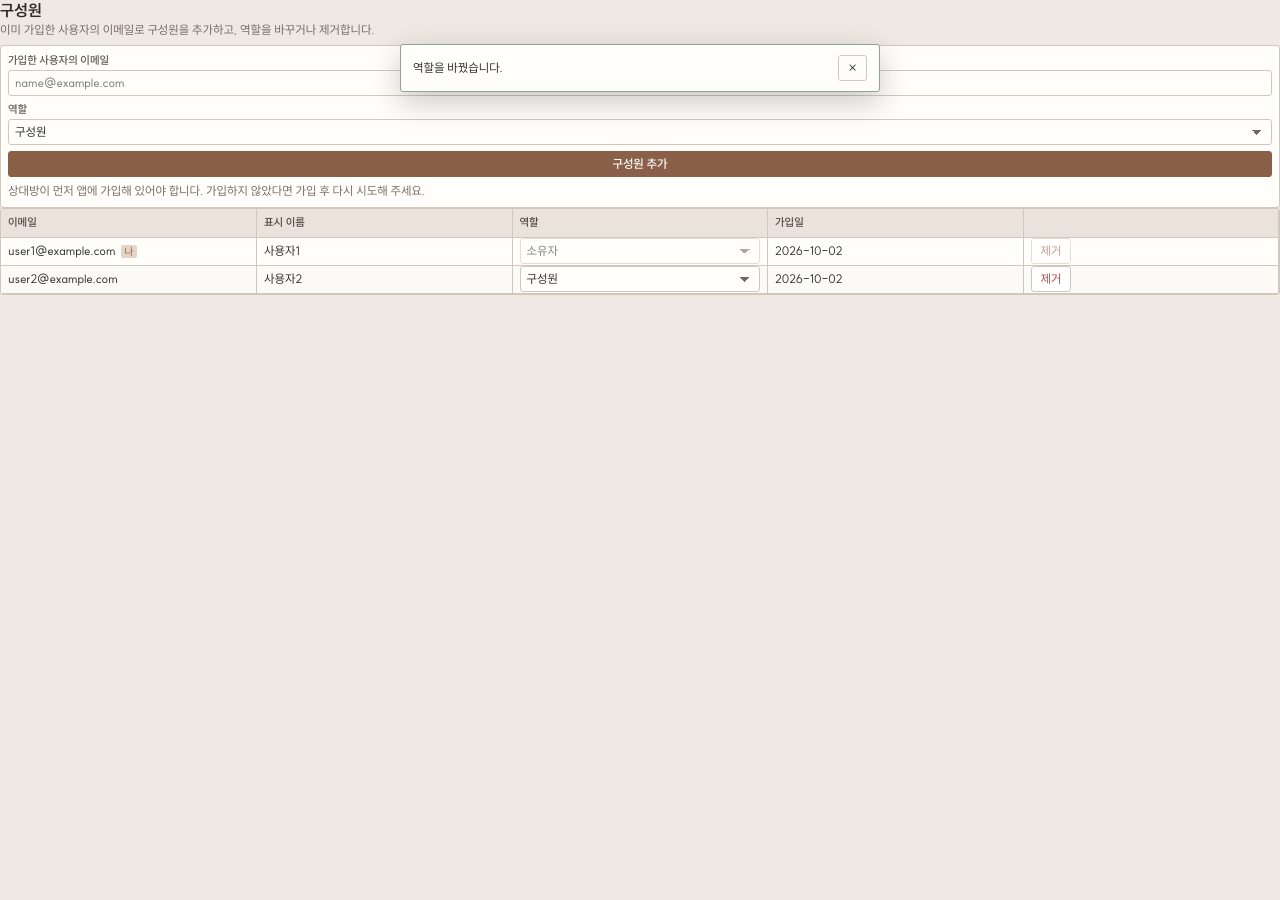
Test: MembersPage › 확인에서 취소하면 요청하지 않는다
Check: the text "user2@example.com" is shown, box [1,265,256,293]
Select "관리자" in the dropdown named "user2@example.com 역할" at (640, 279), box [520,266,760,292]
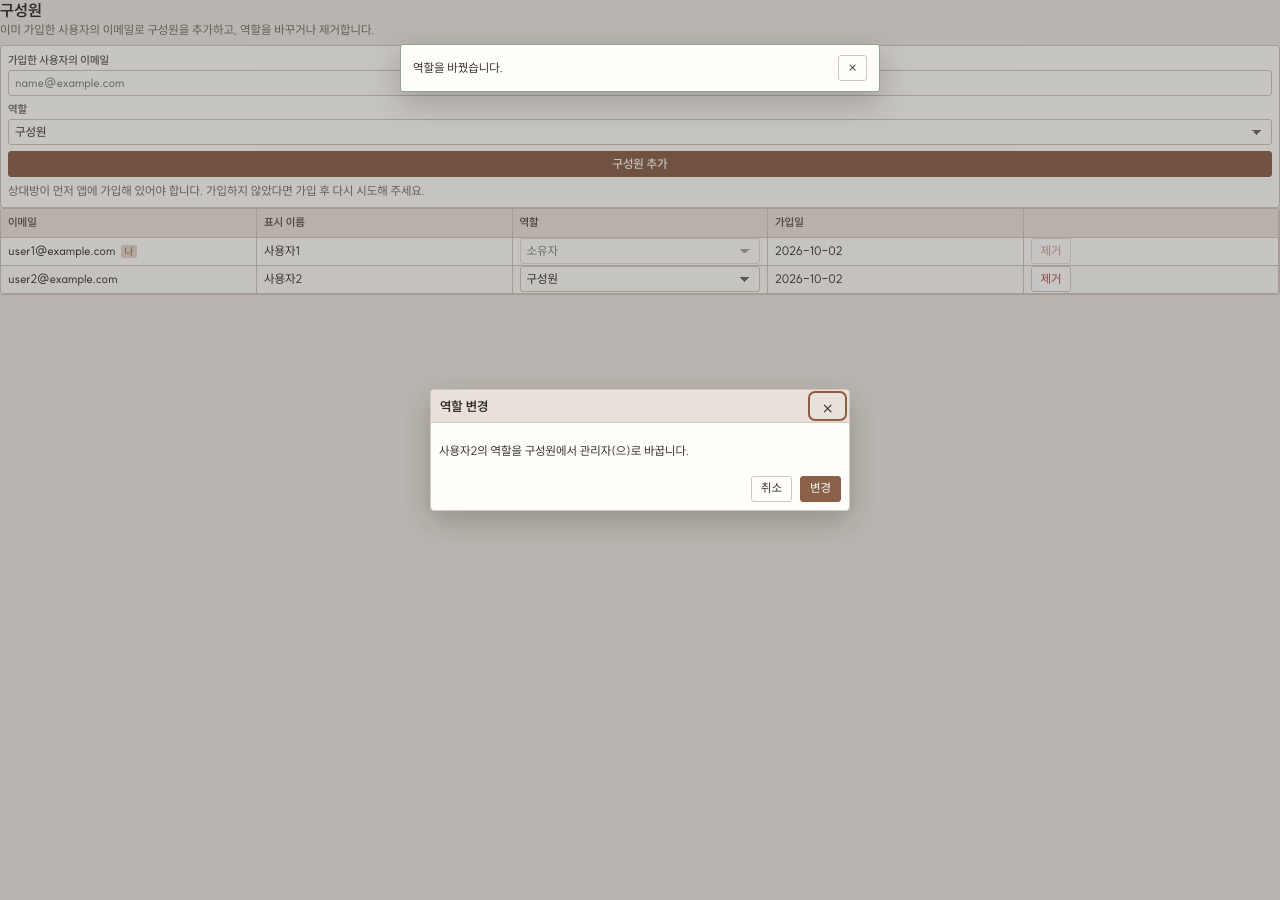
Click the button "취소" at (772, 489), box [751,476,792,502]
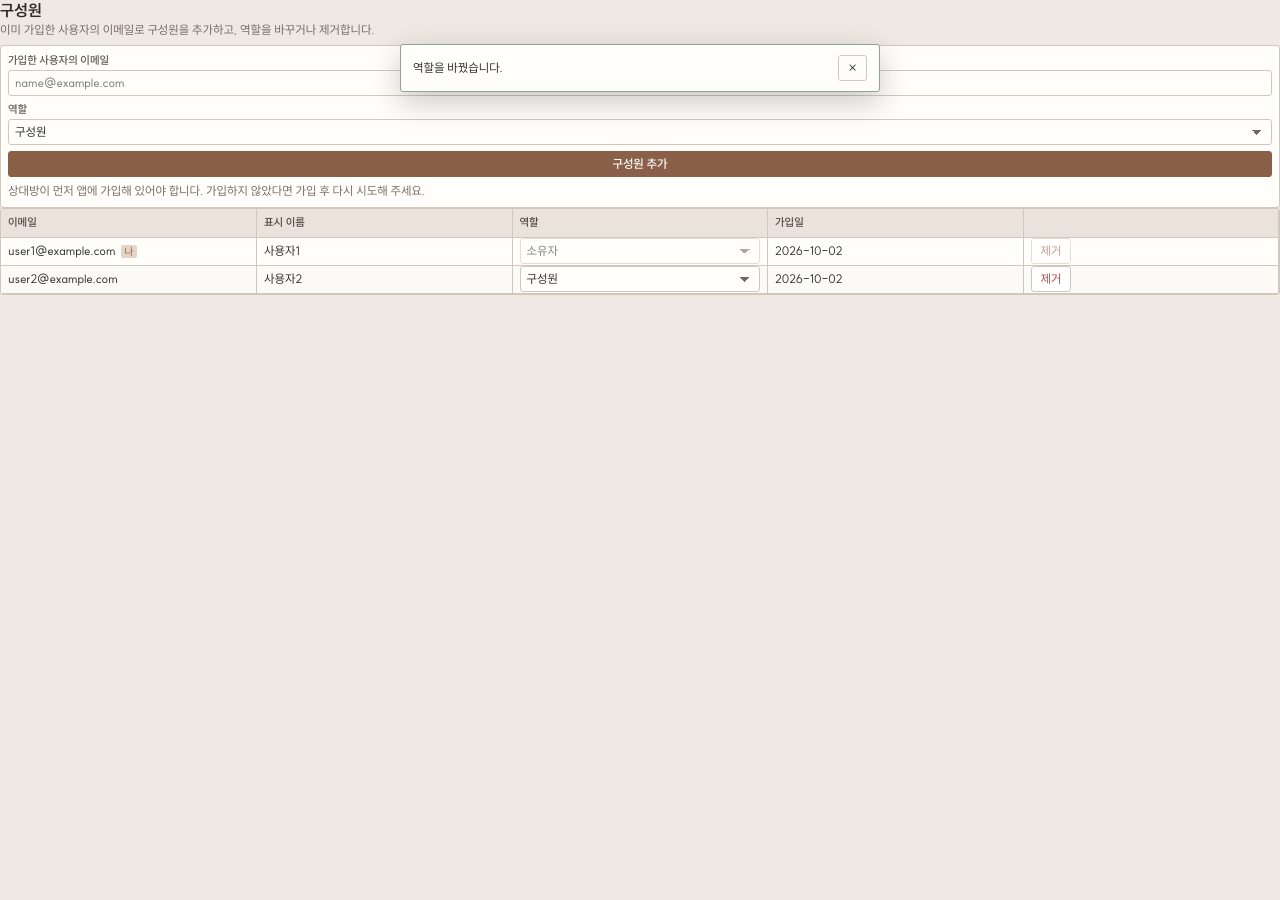
Check: the heading "변경" is gone
